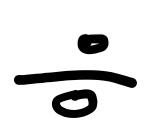div: (13, 34, 138, 116)
